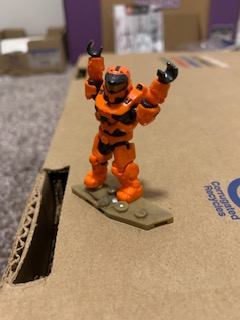spartan: (82, 39, 180, 206)
up: (80, 40, 179, 138)
